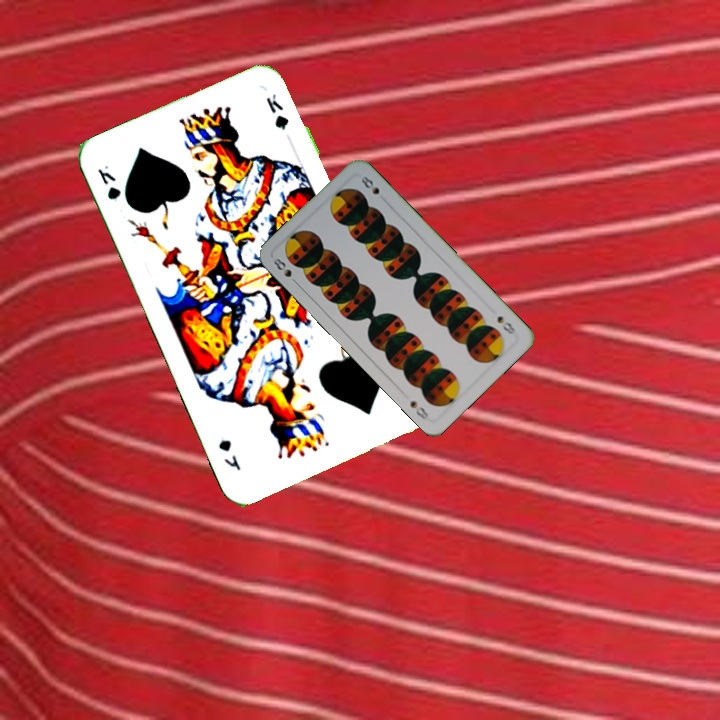GK: (93, 161, 124, 205)
S8: (269, 254, 301, 288), (493, 311, 518, 338)
